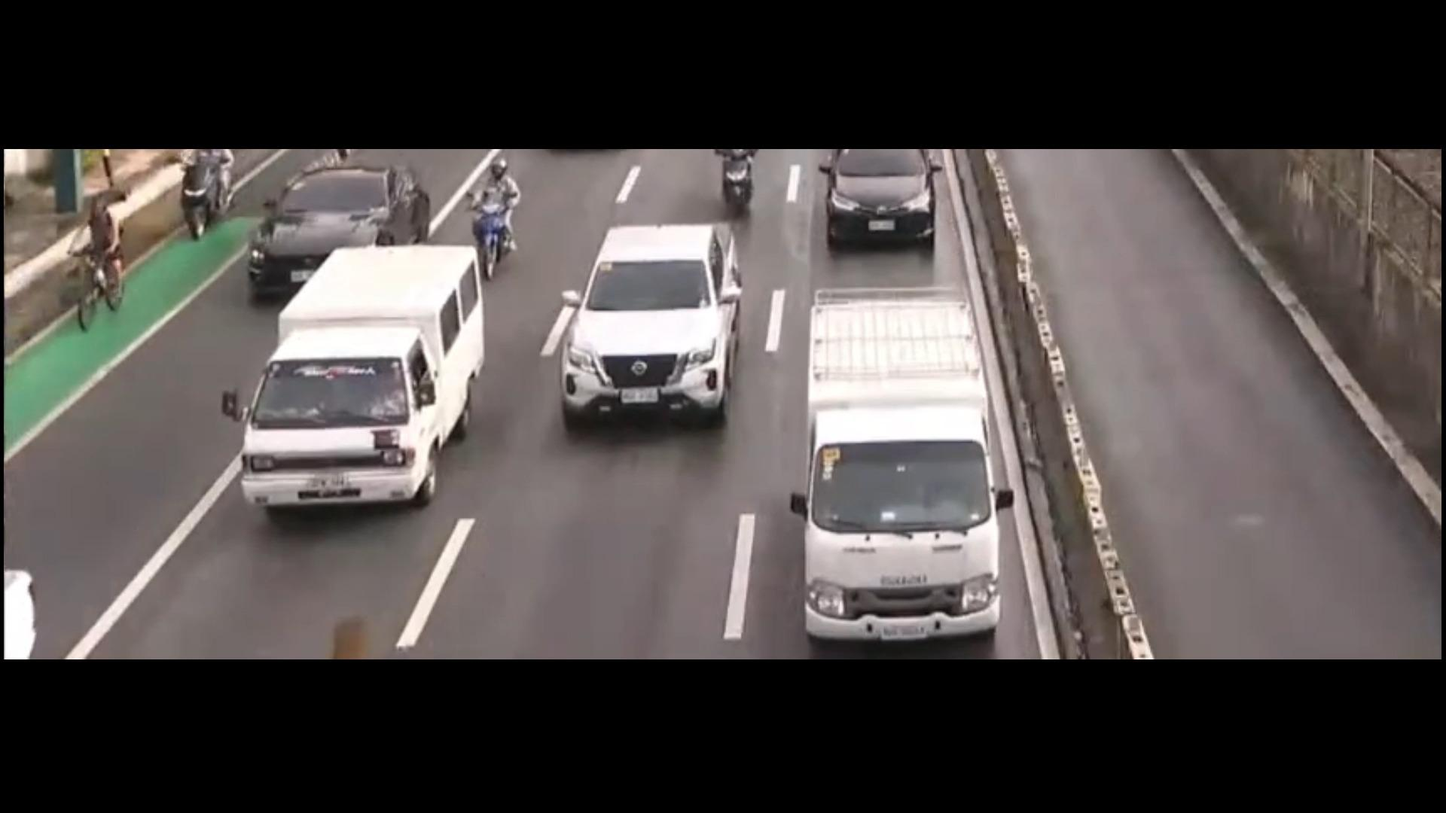Bicycle: (68, 184, 134, 326)
Motorcycle: (461, 158, 537, 267), (169, 145, 233, 241), (719, 147, 766, 216)
Multicab: (795, 292, 1000, 632), (235, 241, 474, 508)
SUV: (554, 226, 731, 418)
Sedan: (249, 167, 424, 294), (817, 147, 934, 260)
